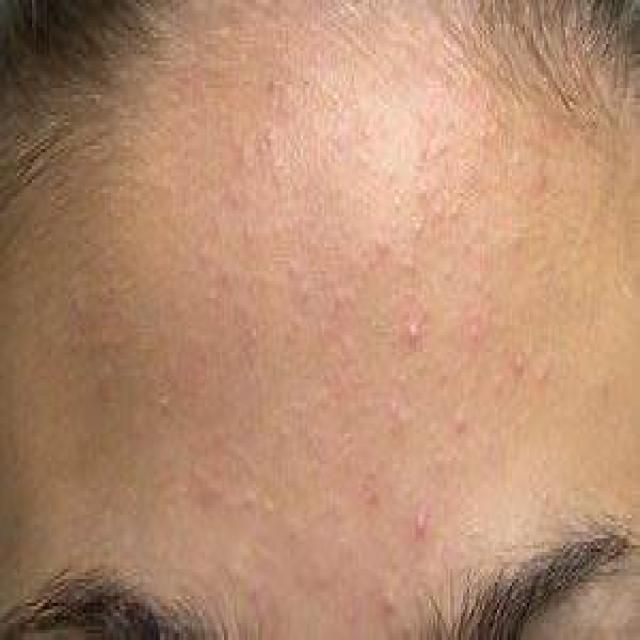fungal: (38, 94, 594, 553)
